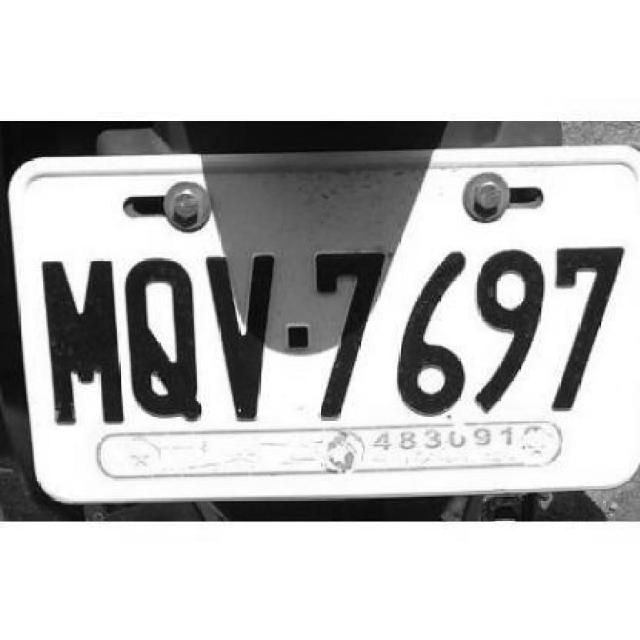-: (283, 323, 311, 349)
6: (391, 242, 469, 418)
7: (312, 248, 392, 423), (546, 238, 626, 412)
9: (466, 242, 546, 412)
M: (34, 248, 126, 432)
Q: (125, 257, 202, 429)
V: (205, 252, 283, 426)
